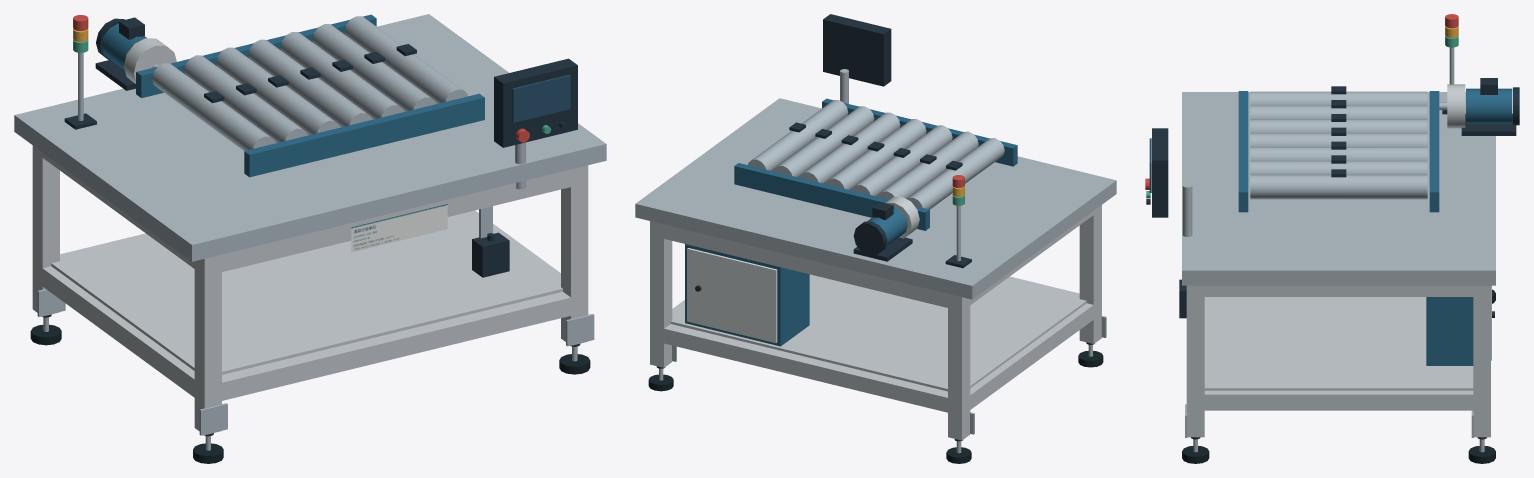
The model's file is shoe-sorter-cell.glb.
3 renders of one model, left to right at view 1: azimuth 30°, elevation 25°; view 2: azimuth 150°, elevation 25°; view 3: azimuth 270°, elevation 25°, orthographic. The views are drawn at different scales.
Parts seen in each view (by area): view 1: ClosedMachineBed_28, LowerShelf_29, SlottedExtrusion_22, TransportRail_49, SlottedExtrusion_23, SlottedExtrusion_24, SlottedExtrusion_8, ConsoleBack_34, SlottedExtrusion_18, TransportRoller_50, SlottedExtrusion_3, TransportRoller_53 (+15 smaller); view 2: ClosedMachineBed_28, LowerShelf_29, BackDoor_31, SlottedExtrusion_20, SlottedExtrusion_21, ConsoleBack_34, TransportRail_48, SlottedExtrusion_3, Cabinet_30, SlottedExtrusion_13, SlottedExtrusion_24, SlottedExtrusion_8 (+13 smaller); view 3: ClosedMachineBed_28, LowerShelf_29, SlottedExtrusion_26, TransportRoller_56, SlottedExtrusion_27, Cabinet_30, SlottedExtrusion_18, SlottedExtrusion_13, TransportRoller_50, TransportRoller_52, TransportRoller_51, TransportRoller_54 (+11 smaller).
Part boxes in pixels (<box>): ClosedMachineBed_28: <box>14,14,606,261</box>; LowerShelf_29: <box>51,212,562,374</box>; SlottedExtrusion_22: <box>213,291,579,402</box>; TransportRail_49: <box>244,93,484,177</box>; SlottedExtrusion_23: <box>213,167,579,273</box>; SlottedExtrusion_24: <box>37,265,199,400</box>; SlottedExtrusion_8: <box>194,254,221,434</box>; ConsoleBack_34: <box>494,58,577,147</box>; SlottedExtrusion_18: <box>561,165,588,345</box>; TransportRoller_50: <box>152,63,275,150</box>; SlottedExtrusion_3: <box>32,145,59,316</box>; TransportRoller_53: <box>248,39,371,127</box>; ClosedMachineBed_28: <box>635,98,1116,299</box>; LowerShelf_29: <box>670,274,1086,391</box>; BackDoor_31: <box>687,248,777,342</box>; SlottedExtrusion_20: <box>658,324,948,412</box>; SlottedExtrusion_21: <box>657,223,954,307</box>; ConsoleBack_34: <box>823,14,891,86</box>; TransportRail_48: <box>734,163,929,230</box>; SlottedExtrusion_3: <box>948,294,970,440</box>; Cabinet_30: <box>685,244,809,346</box>; SlottedExtrusion_13: <box>650,221,672,367</box>; SlottedExtrusion_24: <box>970,303,1093,409</box>; SlottedExtrusion_8: <box>1079,205,1101,343</box>; ClosedMachineBed_28: <box>1182,92,1495,285</box>; LowerShelf_29: <box>1204,297,1473,390</box>; SlottedExtrusion_26: <box>1195,390,1482,410</box>; TransportRoller_56: <box>1250,174,1427,199</box>; SlottedExtrusion_27: <box>1195,285,1481,296</box>; Cabinet_30: <box>1426,297,1473,365</box>; SlottedExtrusion_18: <box>1186,285,1204,437</box>; SlottedExtrusion_13: <box>1473,285,1490,437</box>; TransportRoller_50: <box>1250,91,1427,105</box>; TransportRoller_52: <box>1250,119,1427,133</box>; TransportRoller_51: <box>1250,105,1427,119</box>; TransportRoller_54: <box>1250,147,1427,160</box>.
Bounding box in the file's own units: 1.55 × 1.18 × 1.37.
Materials: 11 (1 with a texture image).
